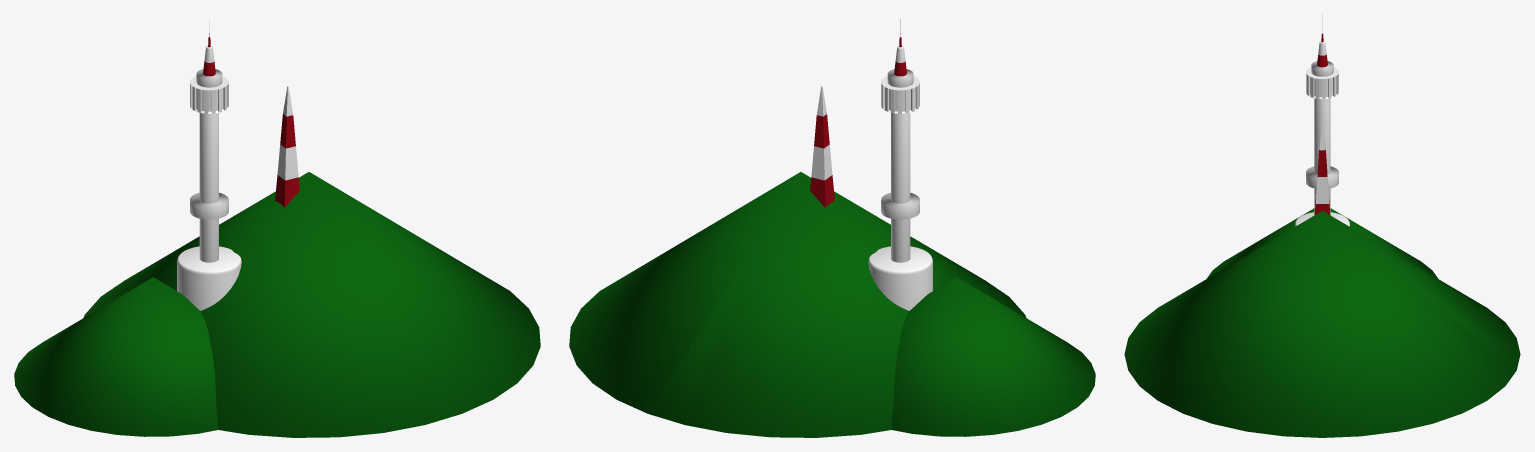
The model's file is SeoulTower.glb.
3 renders of one model, left to right at view 1: azimuth 30°, elevation 25°; view 2: azimuth 150°, elevation 25°; view 3: azimuth 270°, elevation 25°, orthographic. The views are drawn at different scales.
Visible parts, largest first — view 1: Cube; view 2: Cube; view 3: Cube.
Part boxes in pixels (bbox=[...]): Cube: bbox=[14, 19, 540, 437]; Cube: bbox=[569, 19, 1095, 437]; Cube: bbox=[1124, 14, 1520, 437].
Size of the model in its own units: 8.5 by 5.96 by 7.16.
